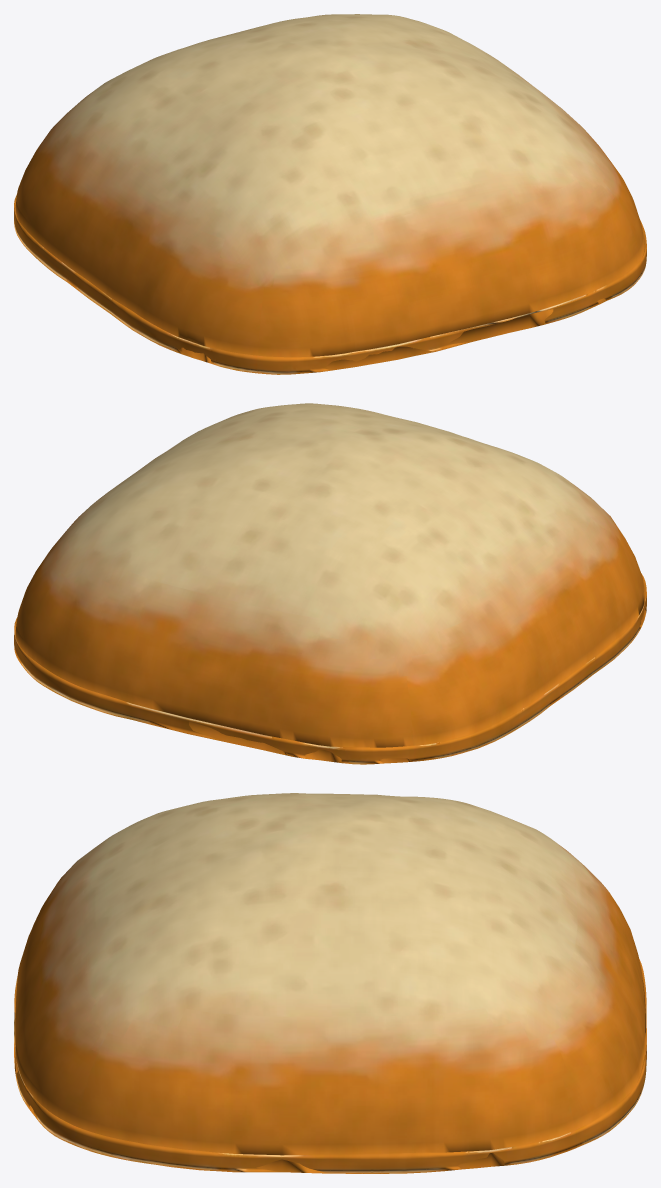
Rendered from bread_pav_top.glb.
3 views of the same model, one above another, from view 1: azimuth 30°, elevation 25°; view 2: azimuth 150°, elevation 25°; view 3: azimuth 270°, elevation 25° (orthographic). The views are drawn at different scales.
Visible parts, largest first — view 1: EX_Bread_pav_top; view 2: EX_Bread_pav_top; view 3: EX_Bread_pav_top.
Part boxes in pixels (x1,y1,x2,y2): EX_Bread_pav_top: (14,14,646,374); EX_Bread_pav_top: (14,403,646,764); EX_Bread_pav_top: (14,793,646,1173).
Size of the model in its own units: 0.0922 by 0.0342 by 0.092.
1 material, 1 textured.
